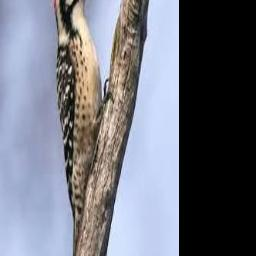Woodpecker: (52, 0, 113, 256)
